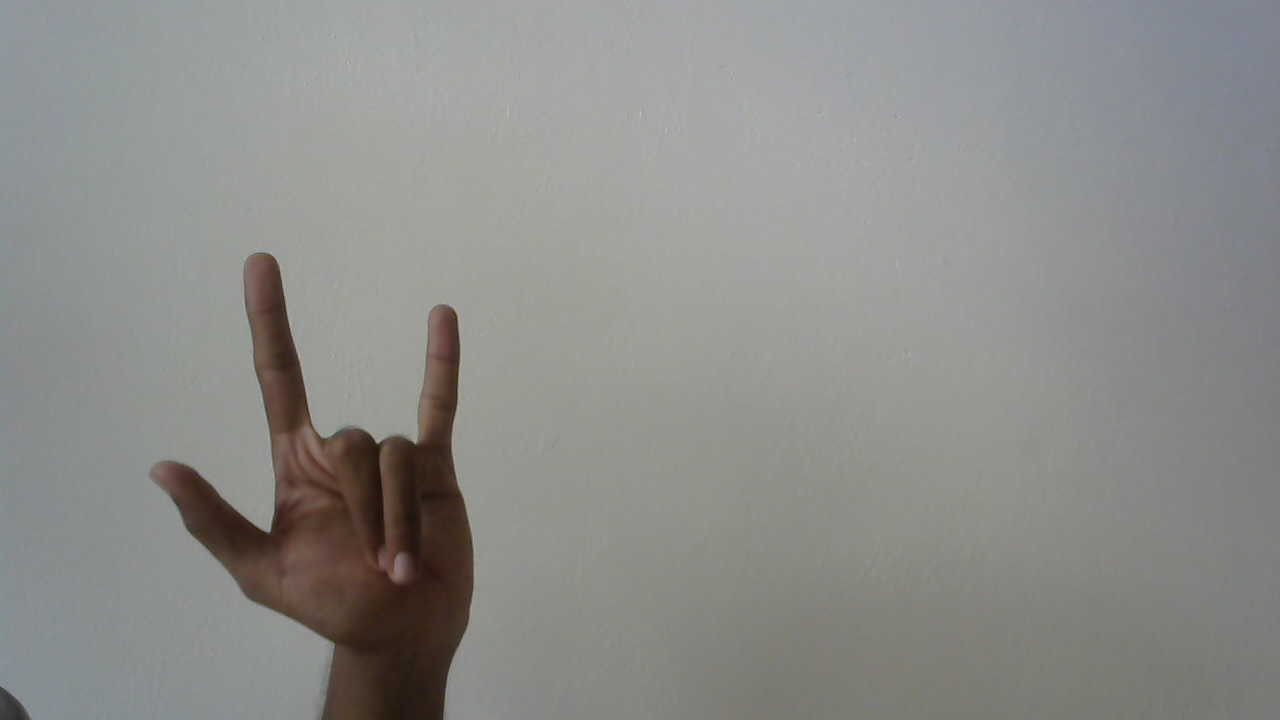iloveyou: (139, 248, 491, 655)
